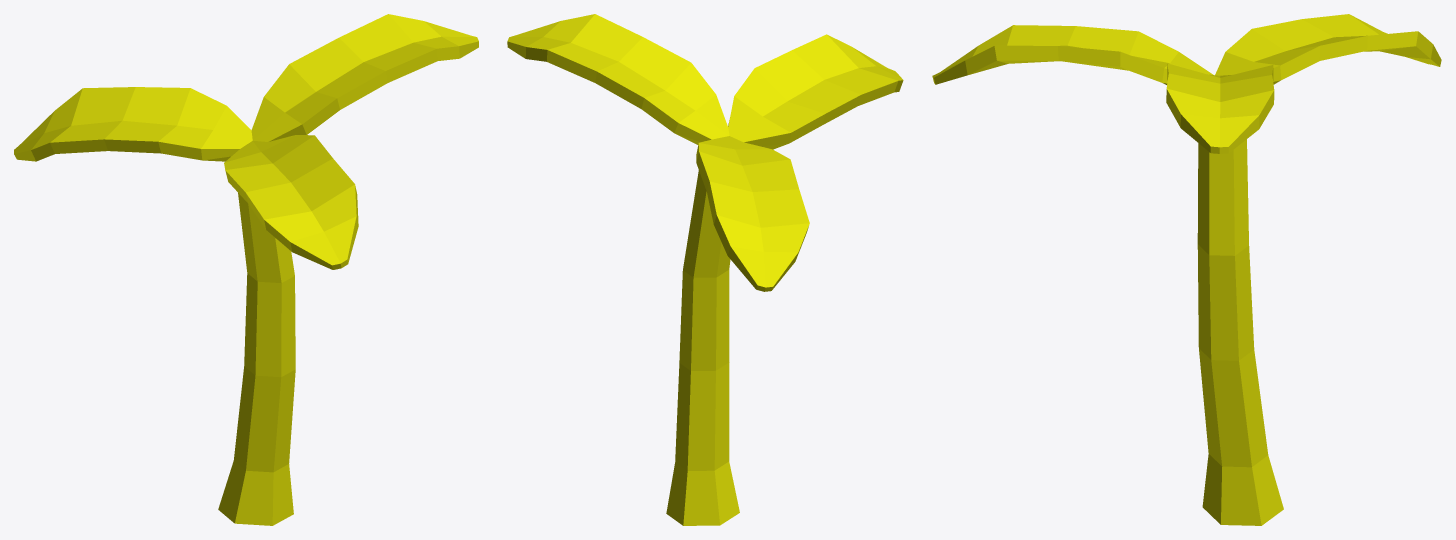
The model's file is Large_Palm.gltf.
3 renders of one model, left to right at view 1: azimuth 30°, elevation 25°; view 2: azimuth 150°, elevation 25°; view 3: azimuth 270°, elevation 25°, orthographic. The views are drawn at different scales.
Visible parts, largest first — view 1: Large_Palm; view 2: Large_Palm; view 3: Large_Palm.
Part boxes in pixels (box(x1,y1,x2,y2)): Large_Palm: box(14, 14, 478, 525); Large_Palm: box(507, 14, 903, 525); Large_Palm: box(932, 14, 1441, 525).
Bounding box in the file's own units: 5.34 × 6.23 × 5.75.
1 material, 1 textured.
